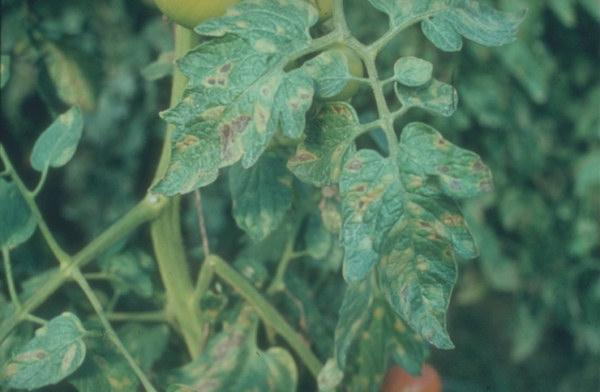Tomato mold leaf: (135, 3, 346, 199), (335, 122, 493, 356), (0, 311, 95, 388), (26, 99, 85, 181), (389, 55, 436, 93)
